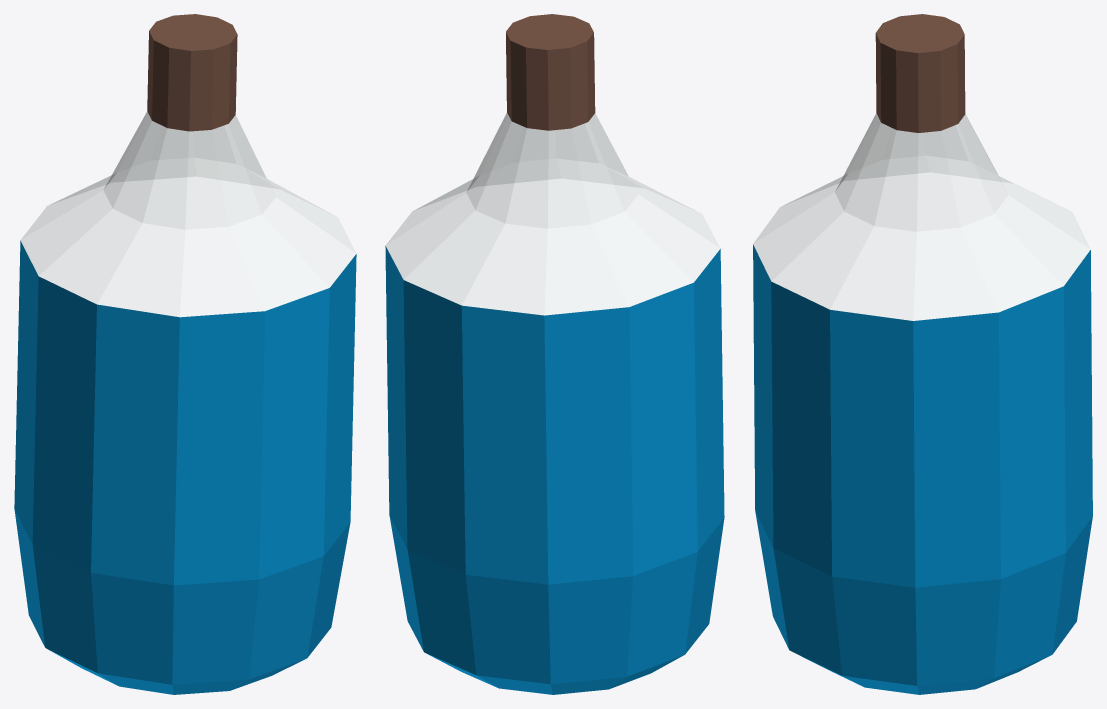
File: bottle-by-thomas-de-rivaz-9M9aDqyahIE.glb
The picture shows the model from 3 angles, left to right: view 1: azimuth 30°, elevation 25°; view 2: azimuth 150°, elevation 25°; view 3: azimuth 270°, elevation 25°; orthographic projection.
Visible parts, largest first — view 1: Node; view 2: Node; view 3: Node.
Boxes of the visible parts, x1,y1,x2,y2 form: Node: [14, 14, 356, 694]; Node: [385, 14, 724, 694]; Node: [753, 14, 1092, 694].
Size of the model in its own units: 0.0602 by 0.12 by 0.0595.
